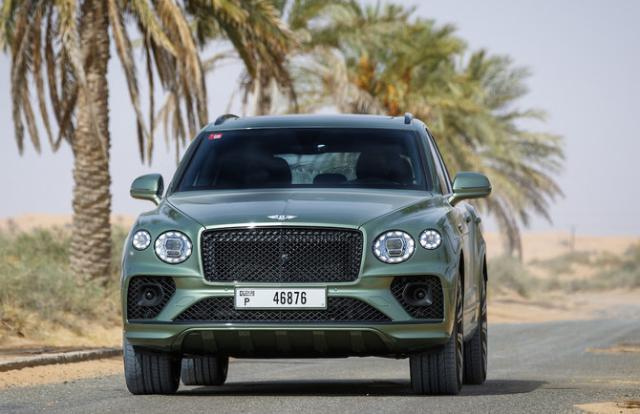bentley: (119, 113, 492, 396)
